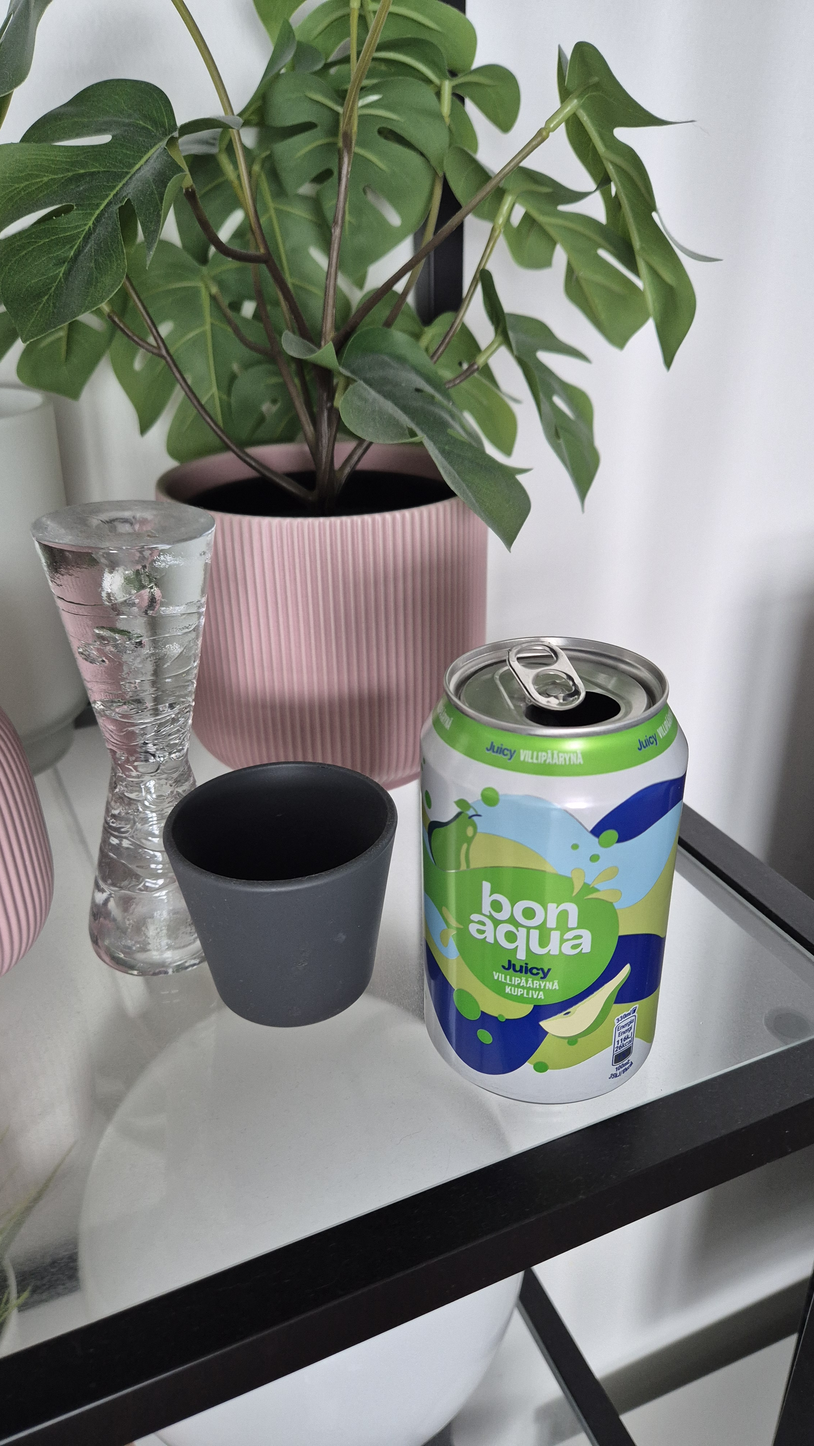Pantburk: (421, 636, 688, 1104)
